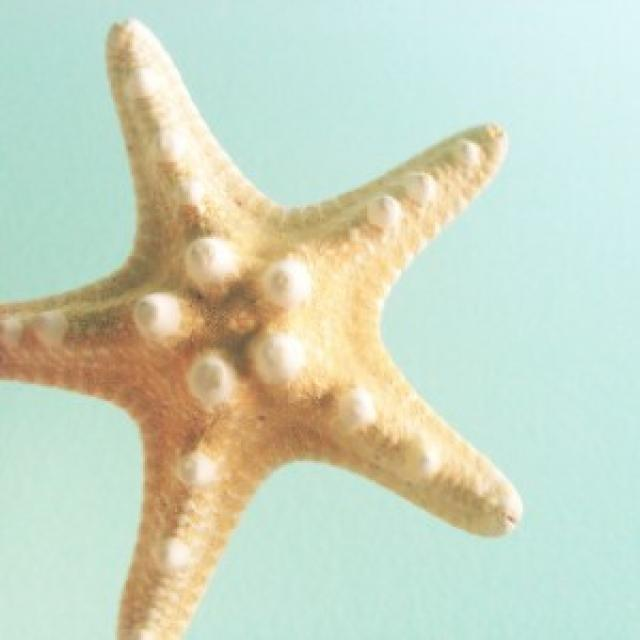Starfish: (1, 0, 526, 640)
